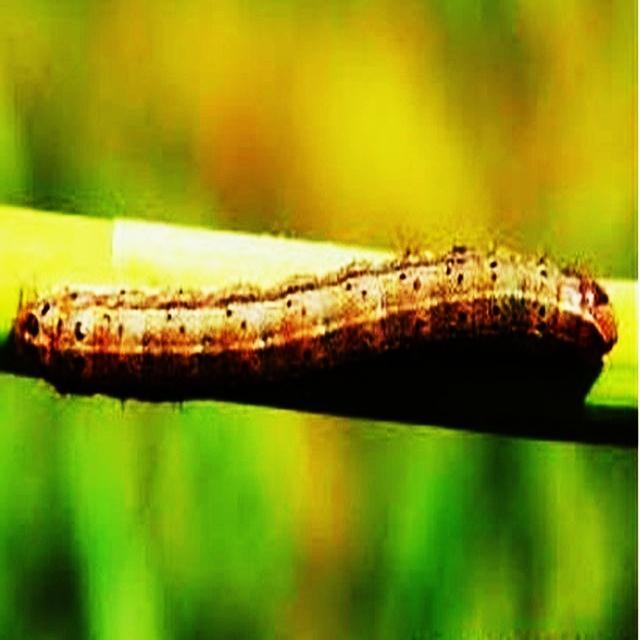worm: (12, 235, 620, 417)
